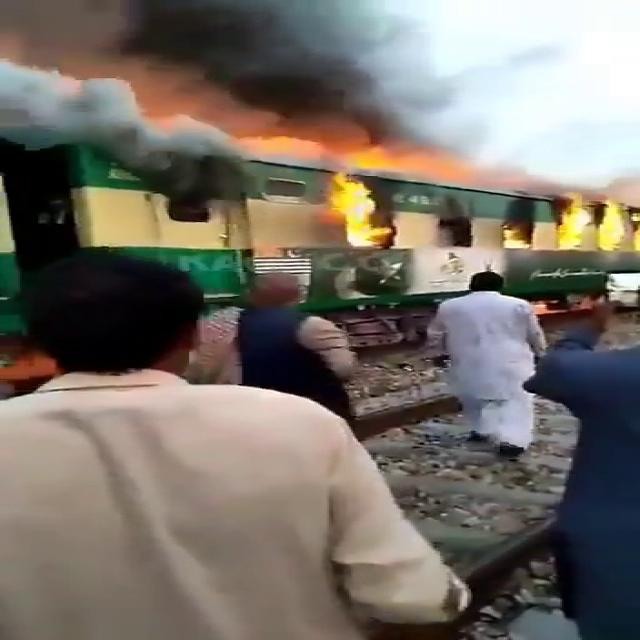Fire: (324, 173, 395, 253), (556, 193, 640, 251)
Smoke: (2, 8, 467, 183)
